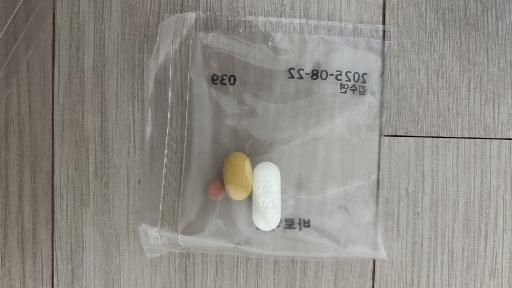Lecox: (223, 152, 253, 200)
Polybutine: (252, 162, 281, 231)
vinyl: (140, 12, 392, 258)
